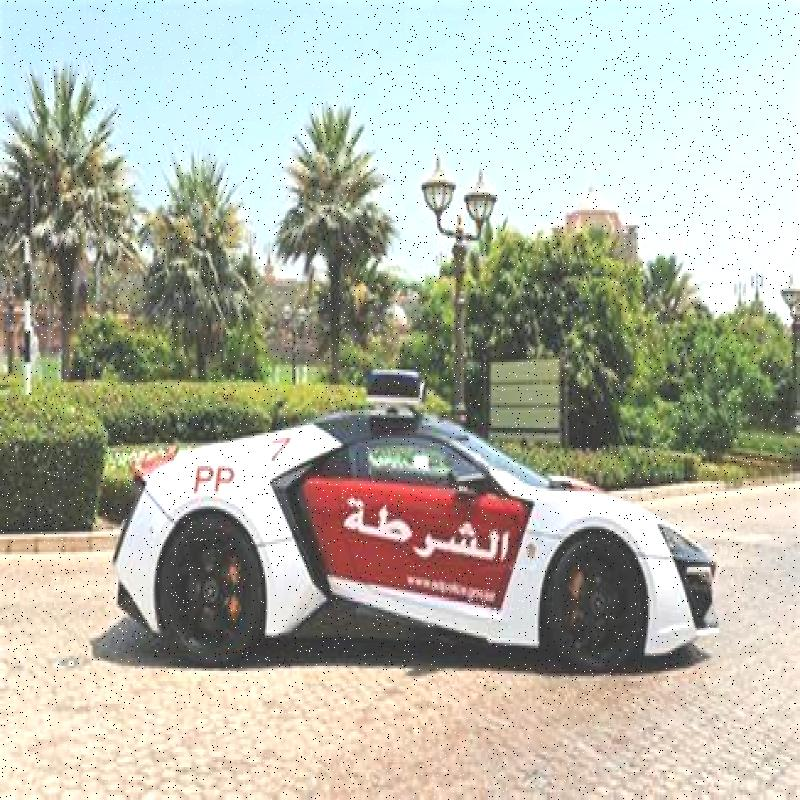AmbulanceSiren: (345, 348, 429, 419)
